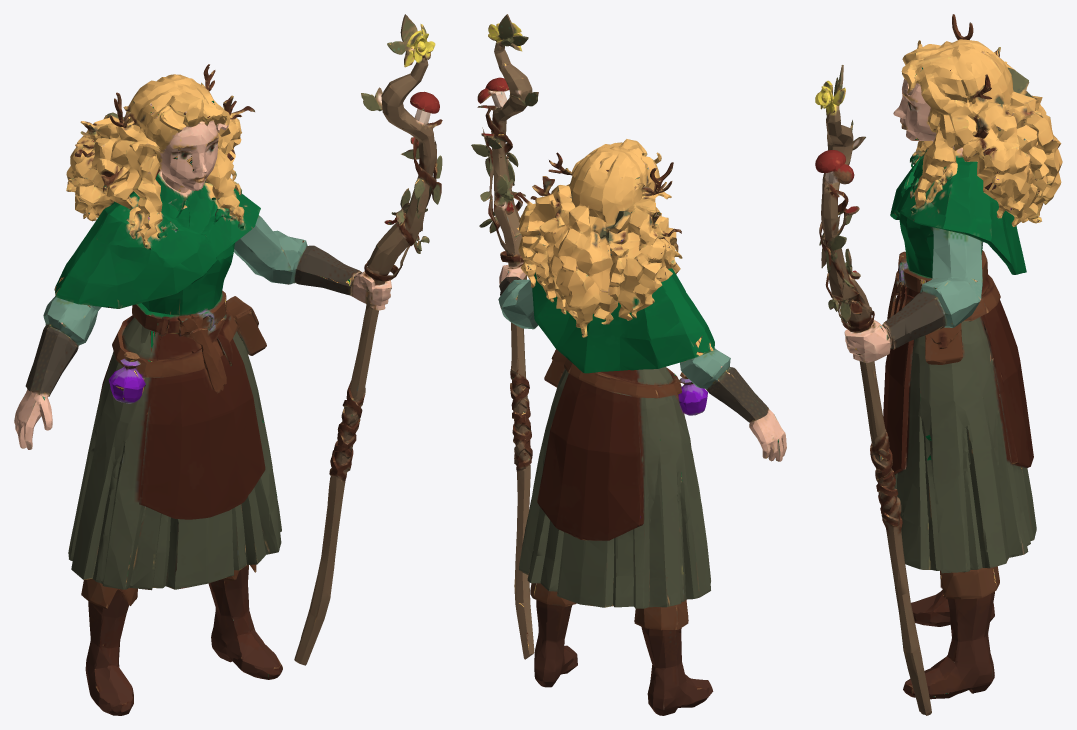
The model's file is Imeri_LOD1.glb.
3 renders of one model, left to right at view 1: azimuth 30°, elevation 25°; view 2: azimuth 150°, elevation 25°; view 3: azimuth 270°, elevation 25°, orthographic. The views are drawn at different scales.
Visible parts, largest first — view 1: Body; view 2: Body; view 3: Body.
Boxes of the visible parts, box(x1,y1,x2,y2) form: Body: box(14, 14, 442, 715); Body: box(471, 14, 786, 715); Body: box(815, 14, 1062, 715).
Bounding box in the file's own units: 1.02 × 1.7 × 0.5601.
Materials: 1 (1 with a texture image).
